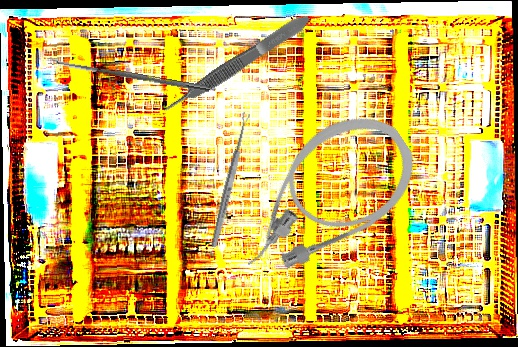Cannula: (208, 94, 434, 296)
Surgical Spoon: (47, 56, 211, 93), (209, 111, 252, 249)
Tissue Forceps: (158, 10, 314, 118)
